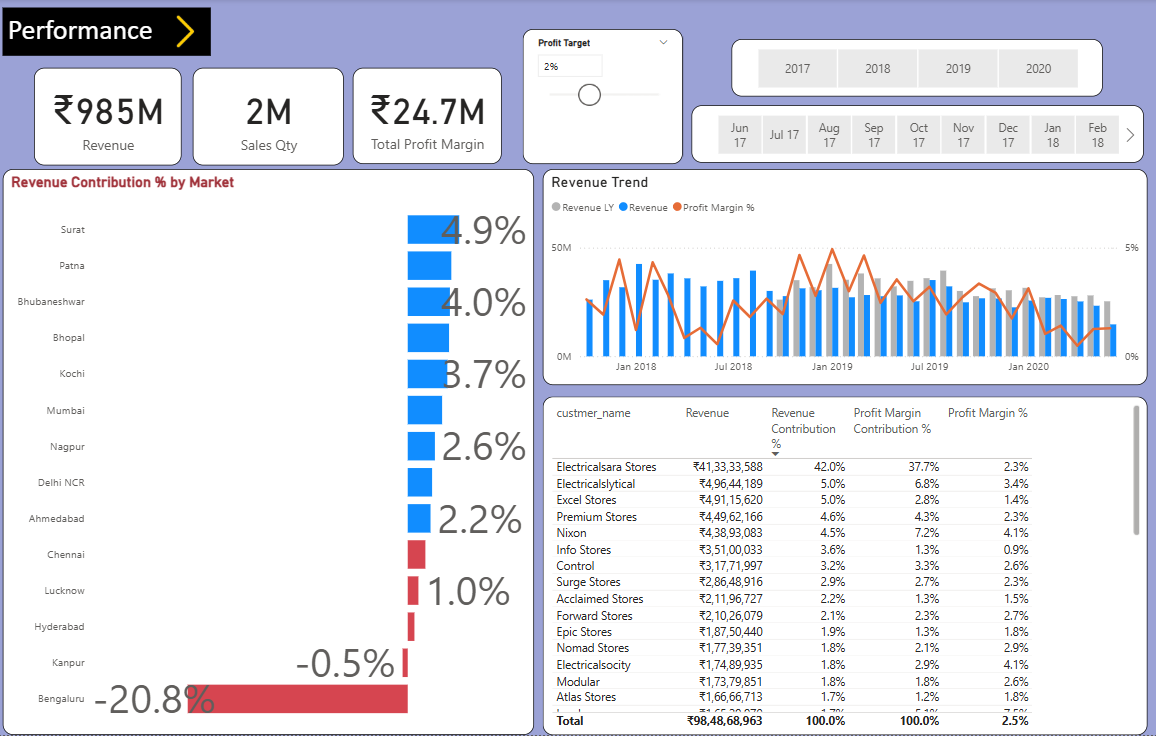

The page's visual inventory and layout, read from the dashboard file:
{"tool":"powerbi","page":{"name":"Performance Insights","canvas":[1350,850],"ordinal":2},"visuals":[{"type":"card","fields":{"Values":["BaseMeasures (2).Revenue"]},"box":[46.2,79.4,170.3,112.6],"z":0},{"type":"card","fields":{"Values":["BaseMeasures (2).Sales Qty"]},"box":[229.5,79.4,174.7,112.6],"z":1000},{"type":"slicer","fields":{"Values":["sales date.year"]},"box":[851.7,46.2,428.8,66.4],"z":2000},{"type":"slicer","fields":{"Values":["sales date.cy_date"]},"box":[805.5,122.7,522.6,66.4],"z":3000},{"type":"tableEx","title":"Top 5 Customers","fields":{"Values":["sales customers.custmer_name","BaseMeasures (2).Revenue","BaseMeasures (2).Revenue Contribution %","BaseMeasures (2).Profit Margin Contribution %","BaseMeasures (2).Profit Margin %"]},"box":[633.7,459.1,698.7,391.2],"z":4000},{"type":"lineClusteredColumnComboChart","title":"Revenue Trend","fields":{"Category":["sales date.cy_date"],"Y":["BaseMeasures (2).Revenue LY","BaseMeasures (2).Revenue"],"Y2":["BaseMeasures (2).Profit Margin %"]},"box":[633.7,196.3,698.7,249.7],"z":5000},{"type":"card","fields":{"Values":["BaseMeasures (2).Total Profit Margin"]},"box":[414.3,79.4,171.8,111.2],"z":6000},{"type":"barChart","title":"Revenue Contribution % by Market","fields":{"Y":["BaseMeasures (2).Profit Margin %"],"Category":["sales markets.zone","sales markets.markets_name","sales customers.custmer_name","sales products.product_code"]},"box":[10.1,196.3,613.5,654],"z":7000},{"type":"slicer","fields":{"Values":["Profit Target.Profit Target"]},"box":[610.7,34.6,184.8,155.9],"z":8000},{"type":"textbox","box":[10.1,10.1,239.6,54.9],"z":8001},{"type":"image","box":[121.3,11.5,196.3,50.5],"z":8002}]}

Visuals, with their boxes in screenshot pixels (x1, y1, x2, y2), scaled from the page's 1350x850 canvas onto the 1156x736 screenshot:
card - BaseMeasures (2).Revenue: BBox(40, 69, 185, 166)
card - BaseMeasures (2).Sales Qty: BBox(197, 69, 346, 166)
slicer - sales date.year: BBox(729, 40, 1096, 97)
slicer - sales date.cy_date: BBox(690, 106, 1137, 164)
"Top 5 Customers" tableEx: BBox(543, 398, 1141, 735)
"Revenue Trend" lineClusteredColumnComboChart: BBox(543, 170, 1141, 386)
card - BaseMeasures (2).Total Profit Margin: BBox(355, 69, 502, 165)
"Revenue Contribution % by Market" barChart: BBox(9, 170, 534, 735)
slicer - Profit Target.Profit Target: BBox(523, 30, 681, 165)
textbox: BBox(9, 9, 214, 56)
image: BBox(104, 10, 272, 54)
